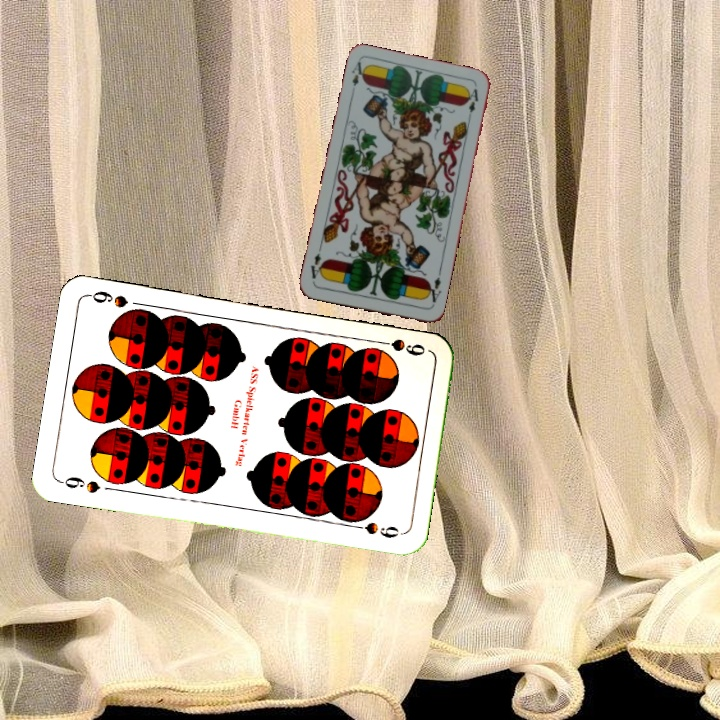EA: (348, 58, 369, 98), (422, 273, 444, 308)
S9: (371, 334, 428, 359), (56, 472, 103, 496)
